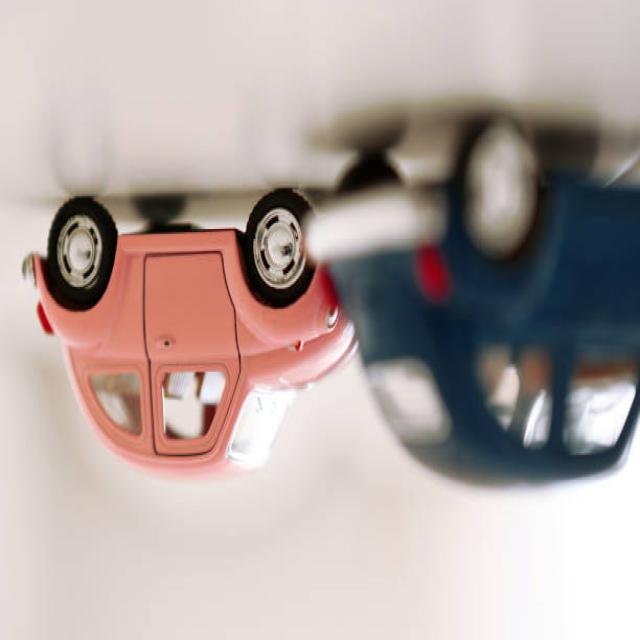Car: (303, 115, 639, 492), (21, 188, 359, 483)
